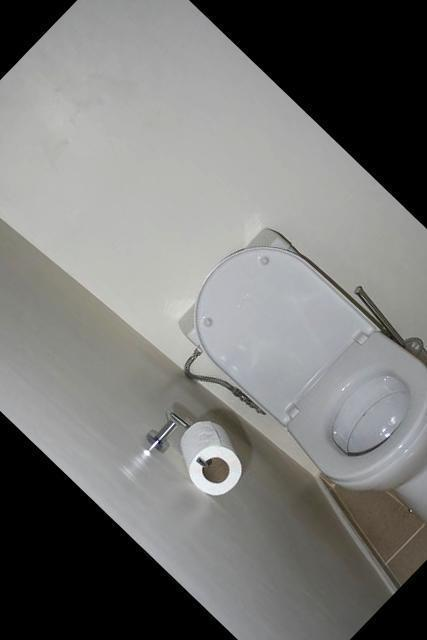Sanitario: (148, 207, 427, 574)
